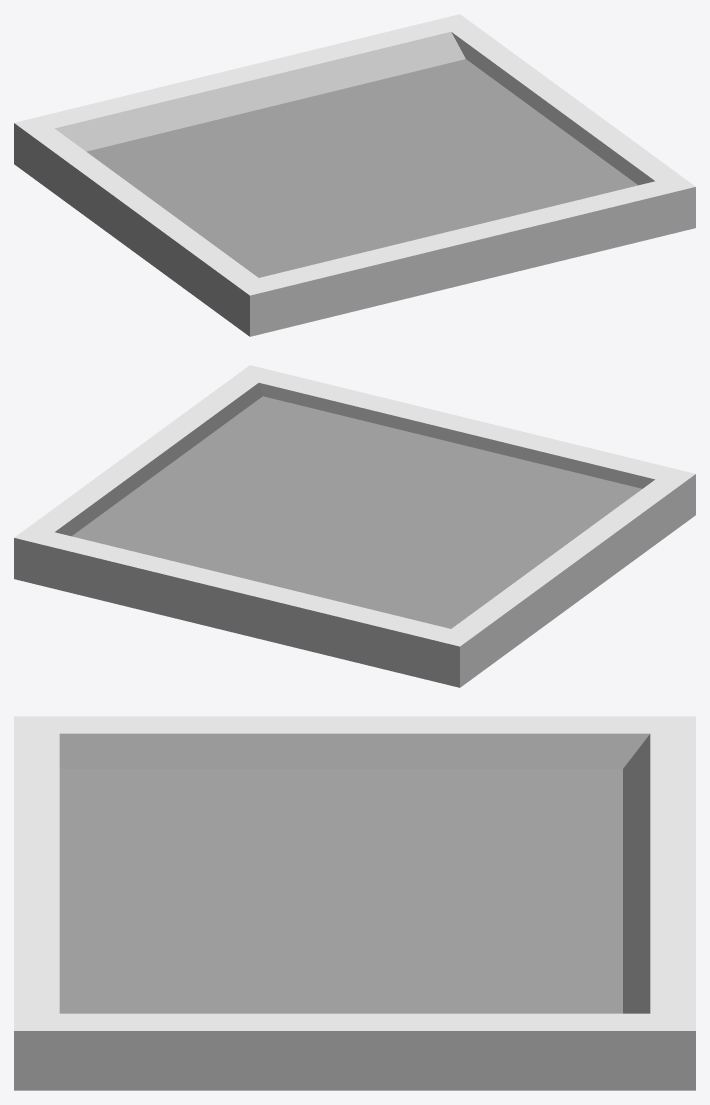
Rendered from DinnerTray.glb.
3 renders of one model, top to bottom at view 1: azimuth 30°, elevation 25°; view 2: azimuth 150°, elevation 25°; view 3: azimuth 270°, elevation 25°, orthographic. The views are drawn at different scales.
Visible parts, largest first — view 1: DinnerTray; view 2: DinnerTray; view 3: DinnerTray.
Part boxes in pixels (<box>): DinnerTray: <box>14,14,695,336</box>; DinnerTray: <box>14,365,695,687</box>; DinnerTray: <box>14,716,695,1090</box>.
Size of the model in its own units: 0.3964 by 0.0351 by 0.3632.
1 material, 1 textured.
